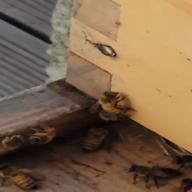Bee: (86, 90, 149, 121)
